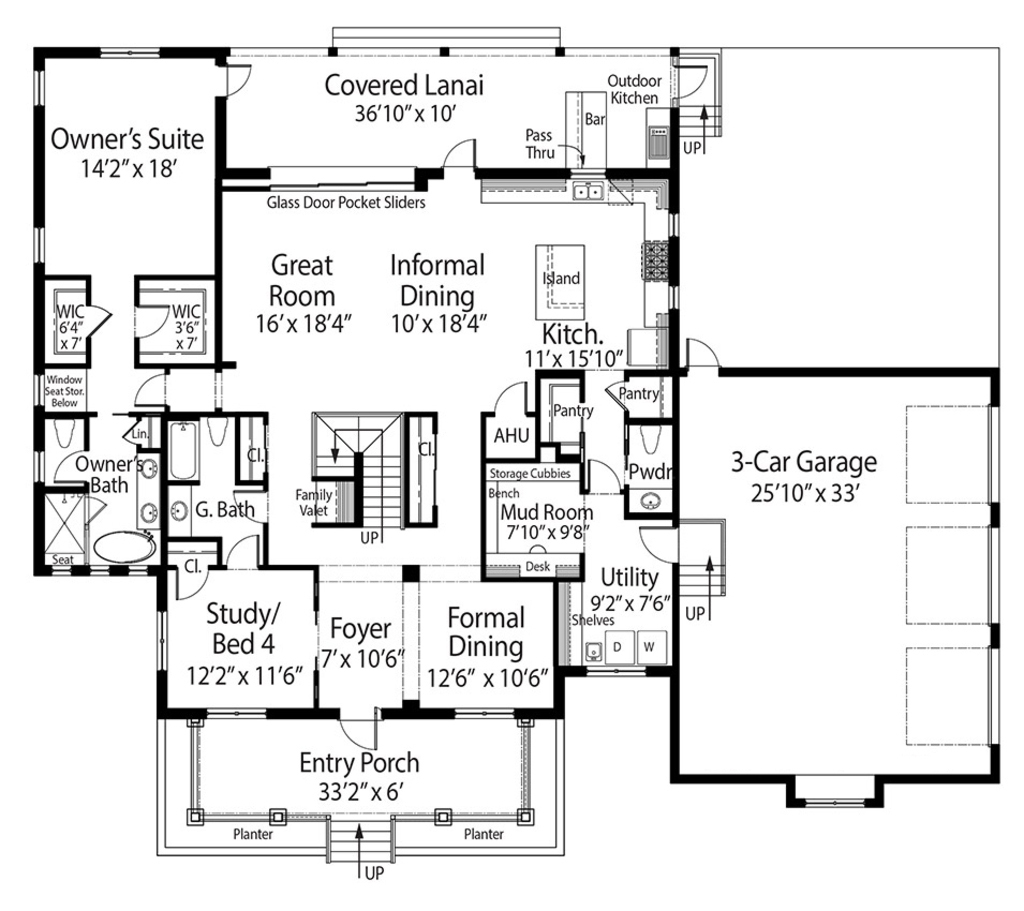door: (332, 708, 389, 750), (131, 364, 171, 412), (682, 334, 723, 377), (438, 133, 476, 179), (175, 563, 215, 603), (637, 520, 675, 560), (129, 302, 171, 338), (585, 455, 621, 496), (222, 57, 256, 98), (495, 380, 529, 419), (227, 533, 261, 569), (679, 63, 707, 98), (87, 302, 110, 341)
small_sink: (134, 457, 161, 523), (625, 485, 674, 513)
stairs: (308, 406, 446, 530), (675, 514, 728, 622), (328, 813, 399, 880), (679, 101, 725, 162)
tub: (166, 422, 204, 487)
windows: (448, 698, 518, 724), (95, 43, 165, 63), (196, 706, 272, 724), (152, 609, 171, 674), (577, 664, 646, 681), (800, 793, 867, 810), (27, 445, 49, 484), (30, 69, 49, 106), (31, 222, 48, 263)
